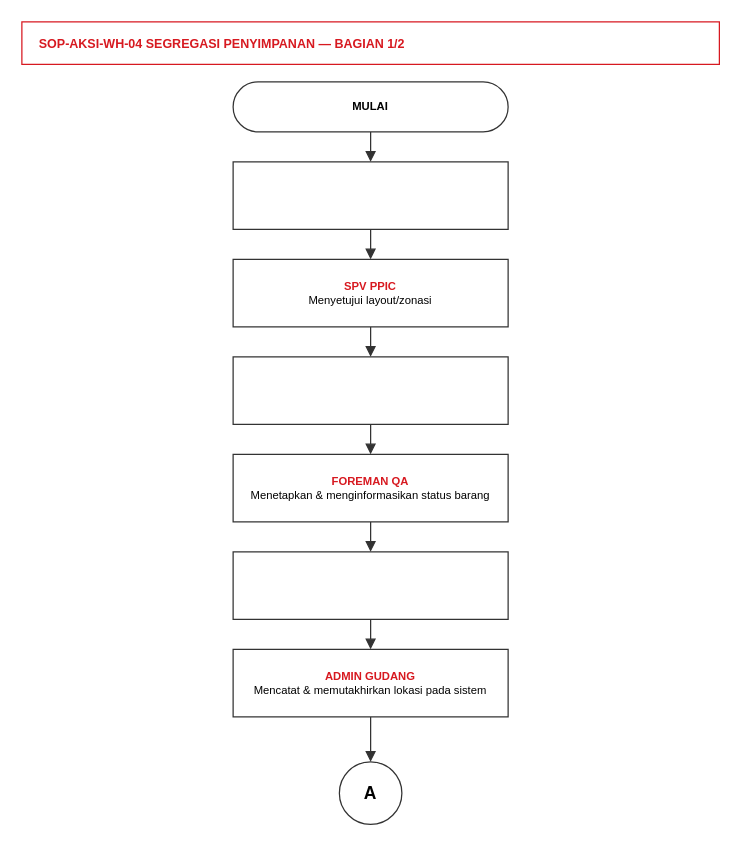
The diagram is 741 pixels wide and 846 high, and some of its shapes have lost their labels. The shapes that lost their labels are listed below. From the top down, each one's box as (x1, y1, x2, y2) in pixels, then its label:
(232, 161, 508, 229): FOREMAN GUDANG Menetapkan layout & zonasi penyimpanan
(232, 356, 508, 424): FOREMAN GUDANG Memberi label area/zonasi
(232, 551, 508, 619): TIM GUDANG Menyimpan & memisahkan barang sesuai status
